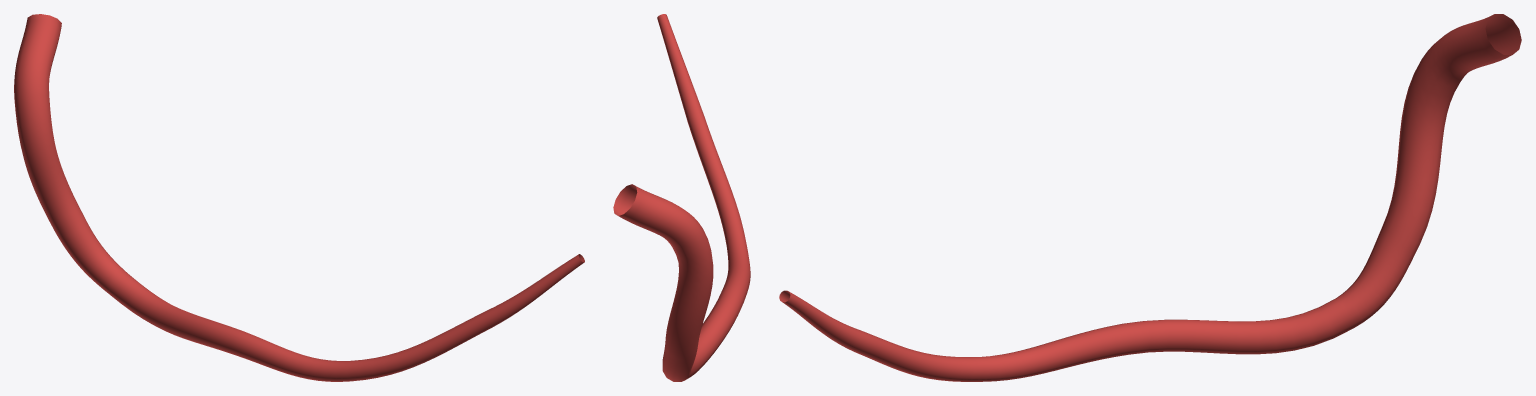
The picture shows the model from 3 angles, left to right: view 1: azimuth 30°, elevation 25°; view 2: azimuth 150°, elevation 25°; view 3: azimuth 270°, elevation 25°; orthographic projection. The views are drawn at different scales.
Parts seen in each view (by area): view 1: 左侧胼缘动脉额支; view 2: 左侧胼缘动脉额支; view 3: 左侧胼缘动脉额支.
Part boxes in pixels (x1,y1,x2,y2): 左侧胼缘动脉额支: (14, 14, 584, 381); 左侧胼缘动脉额支: (613, 14, 750, 381); 左侧胼缘动脉额支: (779, 14, 1521, 381).
Size of the model in its own units: 0.0204 by 0.0161 by 0.034.
